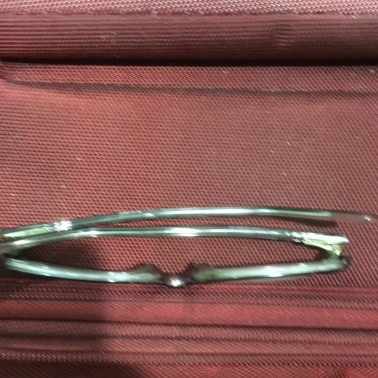glasses: (6, 201, 360, 296)
